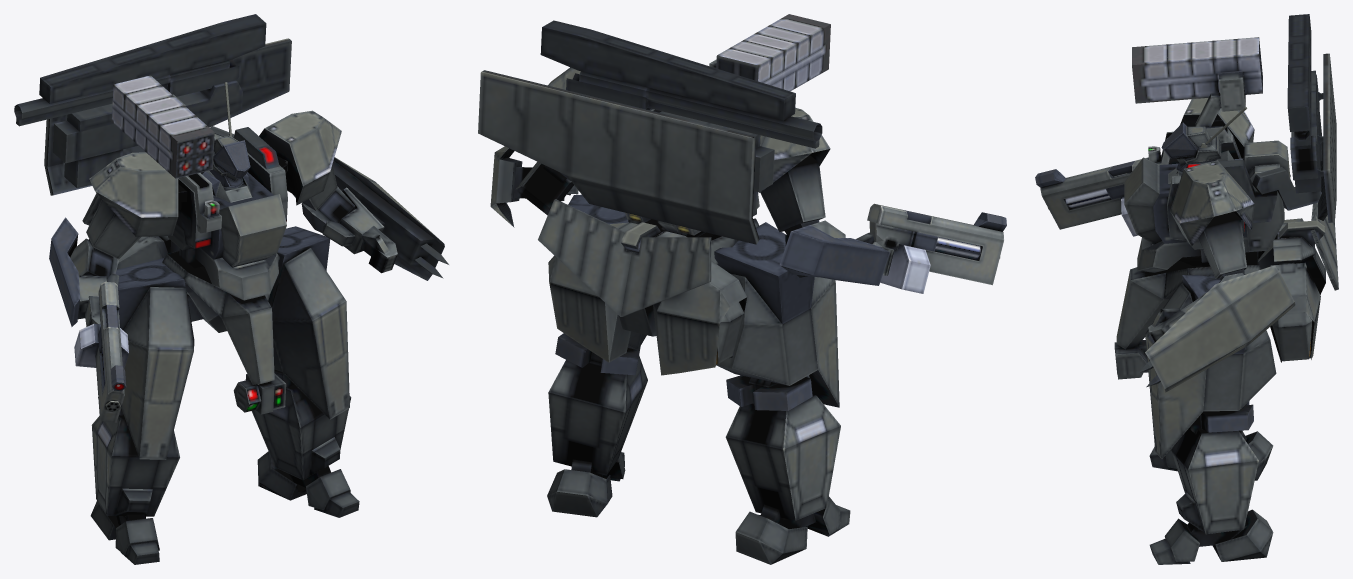
The picture shows the model from 3 angles, left to right: view 1: azimuth 30°, elevation 25°; view 2: azimuth 150°, elevation 25°; view 3: azimuth 270°, elevation 25°; orthographic projection. The views are drawn at different scales.
Visible parts, largest first — view 1: torso, back, rightLeg, leftLeg, rightArm, leftArm, head; view 2: back, rightLeg, rightArm, leftLeg, torso, leftArm; view 3: torso, leftLeg, leftArm, back, rightArm, head, rightLeg.
Part boxes in pixels (left/top/right/bottom): torso: left=111, top=75, right=287, bottom=414; back: left=14, top=14, right=291, bottom=269; rightLeg: left=90, top=258, right=204, bottom=564; leftLeg: left=251, top=226, right=359, bottom=517; rightArm: left=49, top=152, right=178, bottom=422; leftArm: left=259, top=110, right=448, bottom=280; head: left=200, top=82, right=252, bottom=202; back: left=478, top=20, right=822, bottom=375; rightLeg: left=714, top=222, right=850, bottom=564; rightArm: left=759, top=107, right=1006, bottom=293; leftLeg: left=547, top=194, right=647, bottom=517; torso: left=625, top=14, right=830, bottom=264; leftArm: left=490, top=67, right=580, bottom=227; torso: left=1114, top=37, right=1290, bottom=379; leftLeg: left=1145, top=274, right=1276, bottom=564; leftArm: left=1139, top=160, right=1295, bottom=392; back: left=1252, top=14, right=1338, bottom=362; rightArm: left=1035, top=98, right=1290, bottom=236; head: left=1161, top=107, right=1247, bottom=184; rightLeg: left=1149, top=430, right=1273, bottom=480.
Size of the model in its own units: 2.72 by 3 by 1.86.
1 material, 1 textured.
